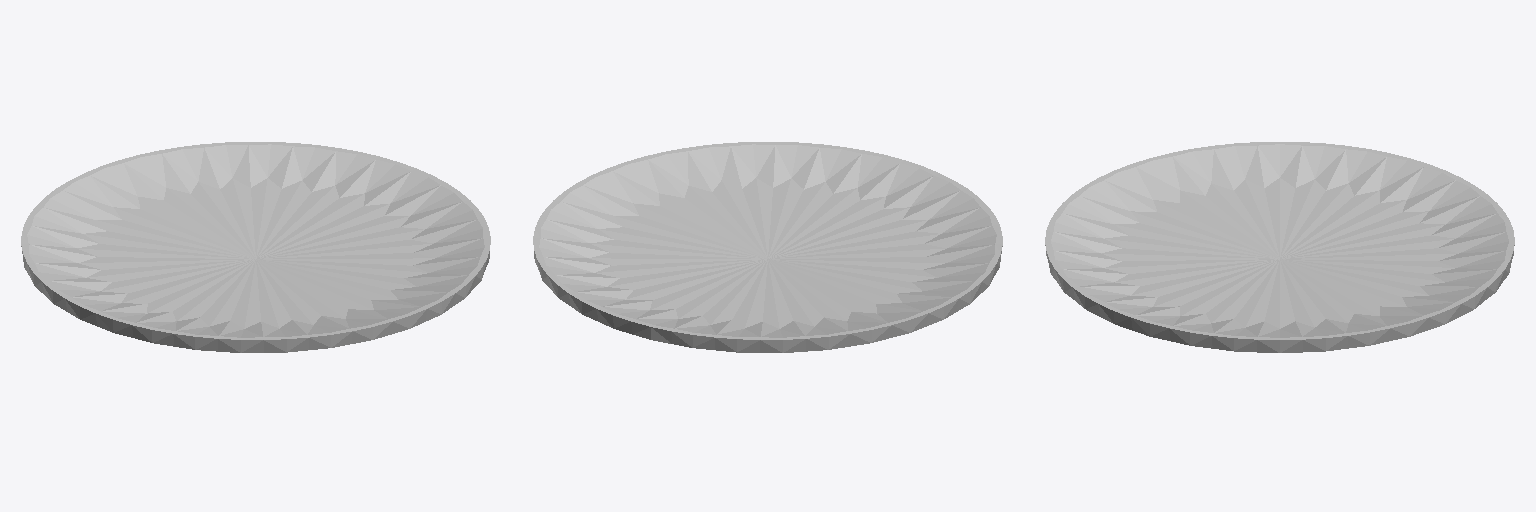
File: plate.obj
The picture shows the model from 3 angles: view 1: azimuth 30°, elevation 25°; view 2: azimuth 150°, elevation 25°; view 3: azimuth 270°, elevation 25°; orthographic projection.
Parts seen in each view (by area): view 1: Cylinder; view 2: Cylinder; view 3: Cylinder.
Part boxes in pixels (left/top/right/bottom): Cylinder: left=21, top=142, right=490, bottom=352; Cylinder: left=533, top=142, right=1002, bottom=352; Cylinder: left=1045, top=142, right=1514, bottom=352.
Size of the model in its own units: 1.94 by 0.1376 by 1.94.